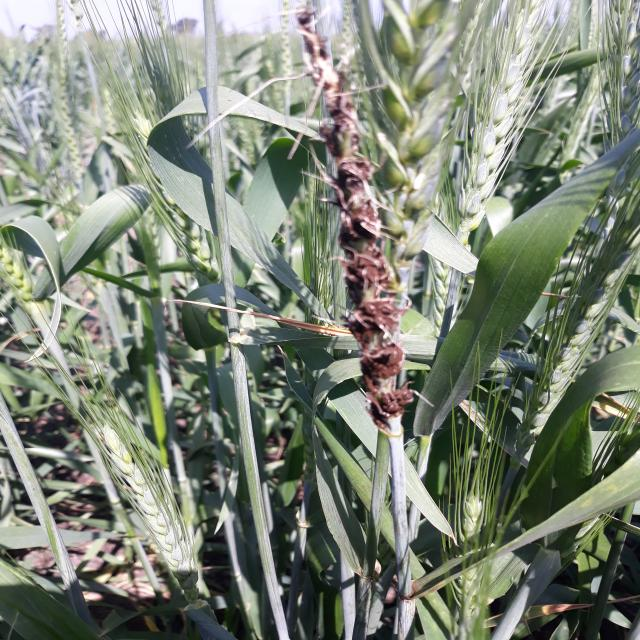loose_charred: (273, 0, 463, 465)
